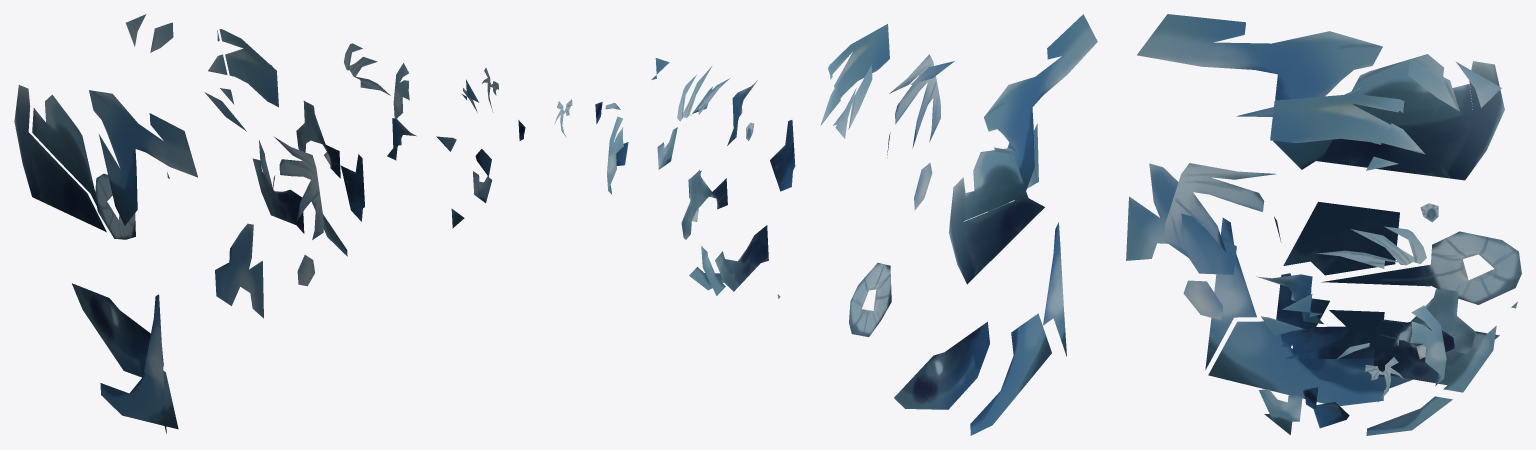
File: 05-moon.glb
3 renders of one model, left to right at view 1: azimuth 30°, elevation 25°; view 2: azimuth 150°, elevation 25°; view 3: azimuth 270°, elevation 25°, orthographic. The views are drawn at different scales.
Visible parts, largest first — view 1: obj5-moon; view 2: obj5-moon; view 3: obj5-moon.
Part boxes in pixels (x1,y1,x2,y2): obj5-moon: (14, 14, 525, 433); obj5-moon: (554, 14, 1097, 435); obj5-moon: (1126, 14, 1521, 435).
Bounding box in the file's own units: 1.27 × 1 × 0.9137.
Materials: 1 (1 with a texture image).
